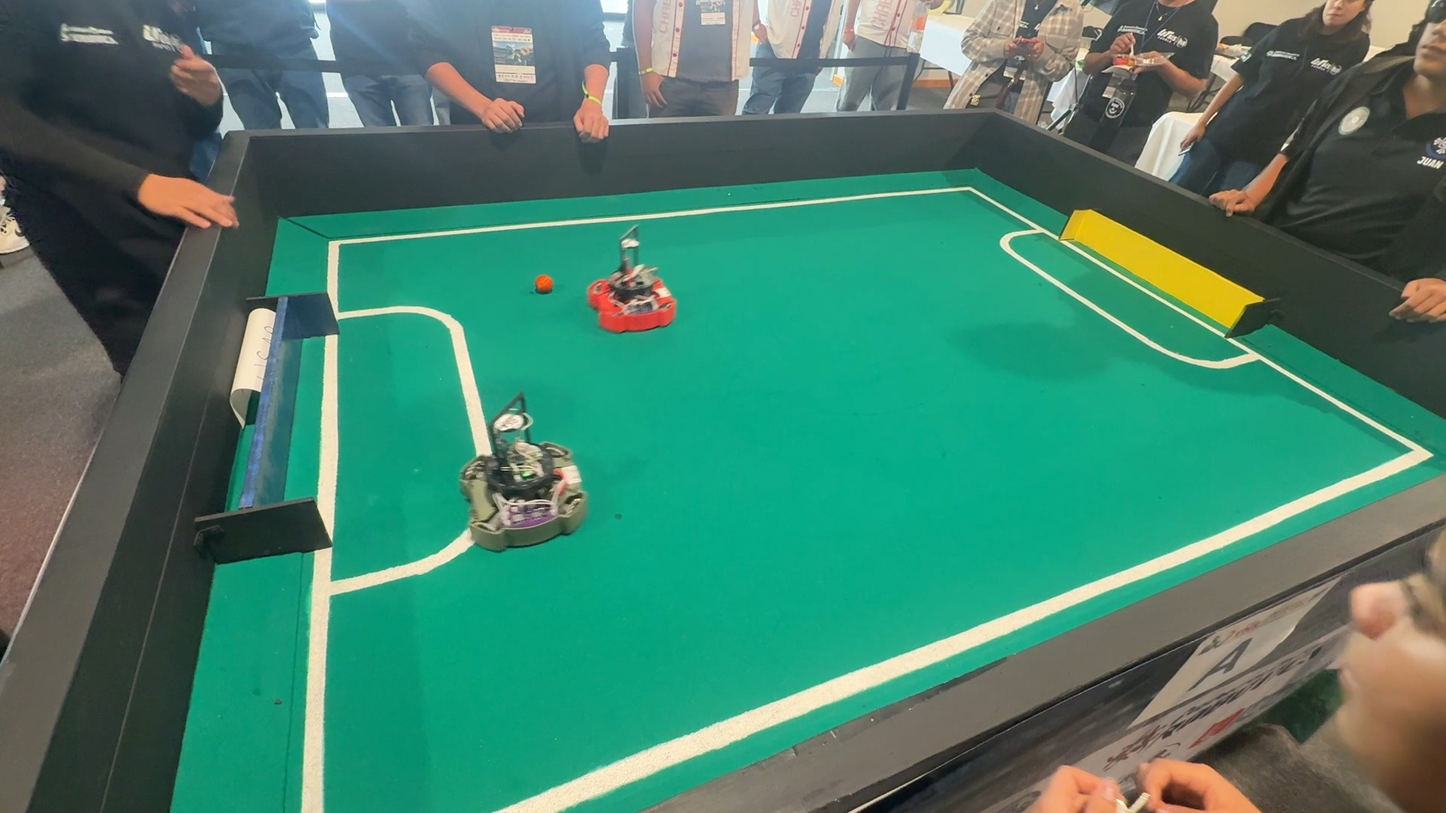Robot: (453, 394, 594, 563), (585, 217, 684, 338)
pelota: (527, 272, 562, 297)
